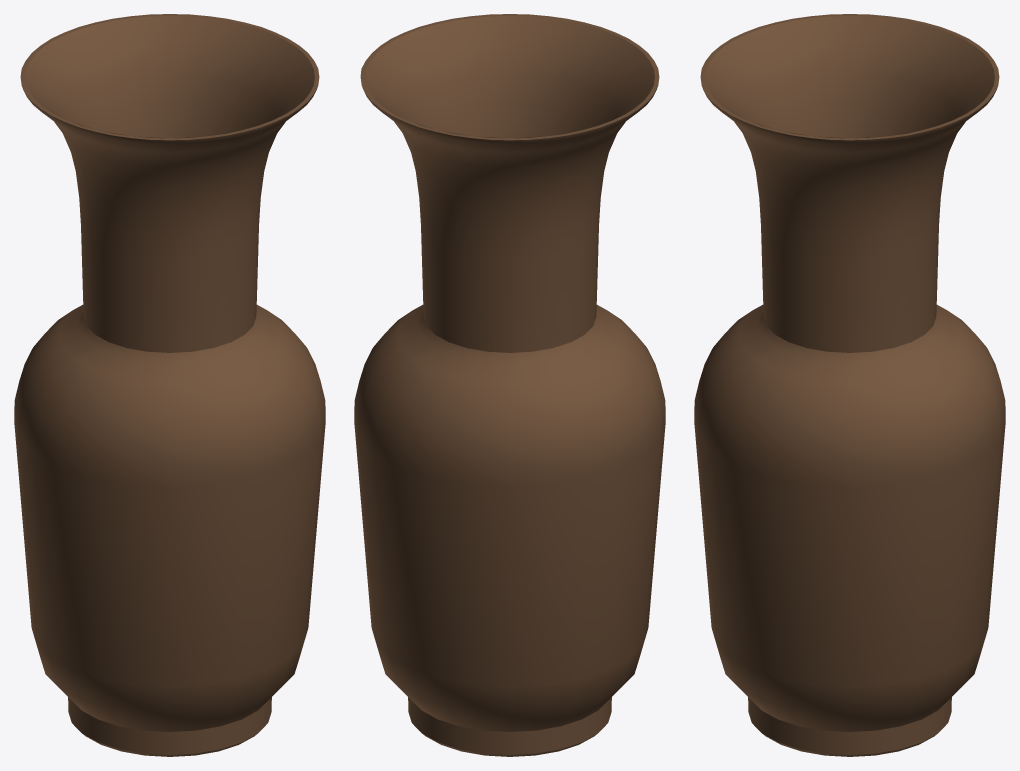
File: Vase_1.fbx
3 renders of one model, left to right at view 1: azimuth 30°, elevation 25°; view 2: azimuth 150°, elevation 25°; view 3: azimuth 270°, elevation 25°, orthographic.
Parts seen in each view (by area): view 1: Vase_1; view 2: Vase_1; view 3: Vase_1.
Boxes of the visible parts, x1,y1,x2,y2 form: Vase_1: (14,14,325,756); Vase_1: (354,14,665,756); Vase_1: (694,14,1005,756).
Size of the model in its own units: 44.92 by 102 by 44.92.
1 material, 1 textured.
